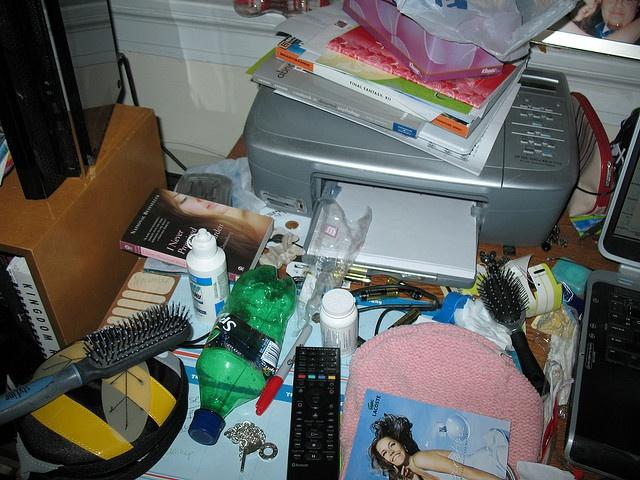Printer: (242, 65, 579, 288)
